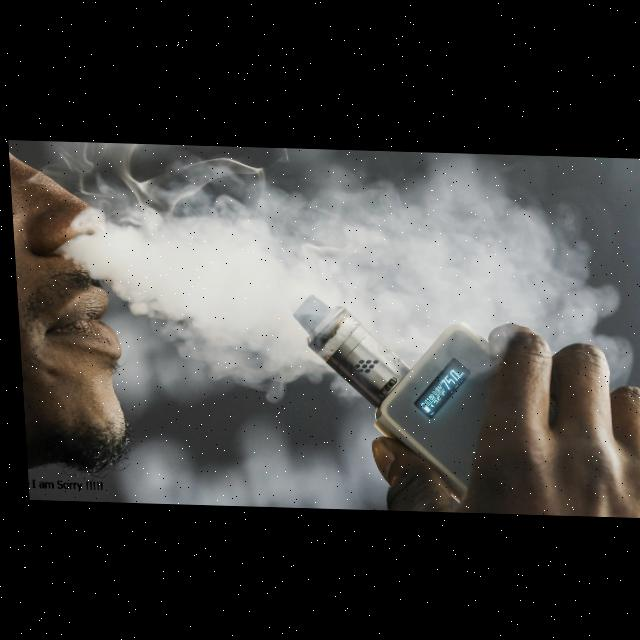vape: (289, 292, 557, 498)
